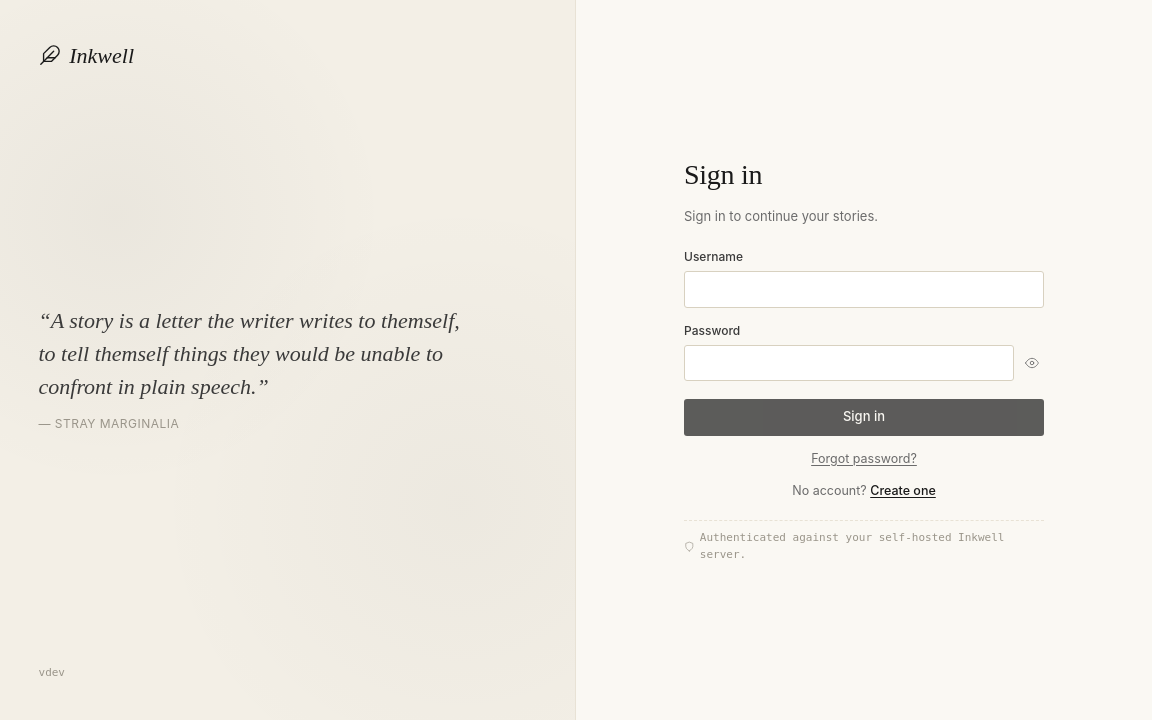
Test case: auth pages (F4) › submit button is disabled while the form is invalid
Check: the heading "Sign in" is shown, box x1=684 y1=159 x2=762 y2=190
Check: the button "Sign in" is disabled, box x1=684 y1=399 x2=1044 y2=436
Step 1. Type "ab" into the field labelled "Username" → x=864, y=289, box x1=684 y1=271 x2=1044 y2=308
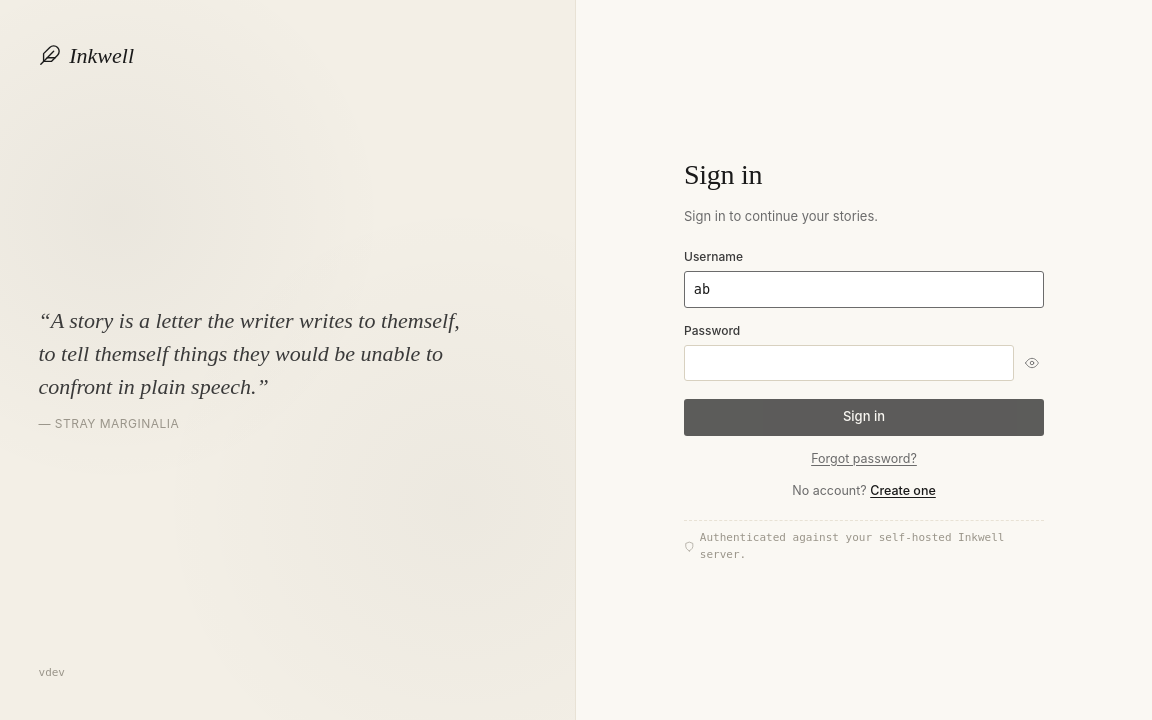
Check: the button "Sign in" is disabled, box x1=684 y1=399 x2=1044 y2=436
Step 2. Type "short" into the password field labelled "Password" → x=849, y=363, box x1=684 y1=345 x2=1014 y2=381
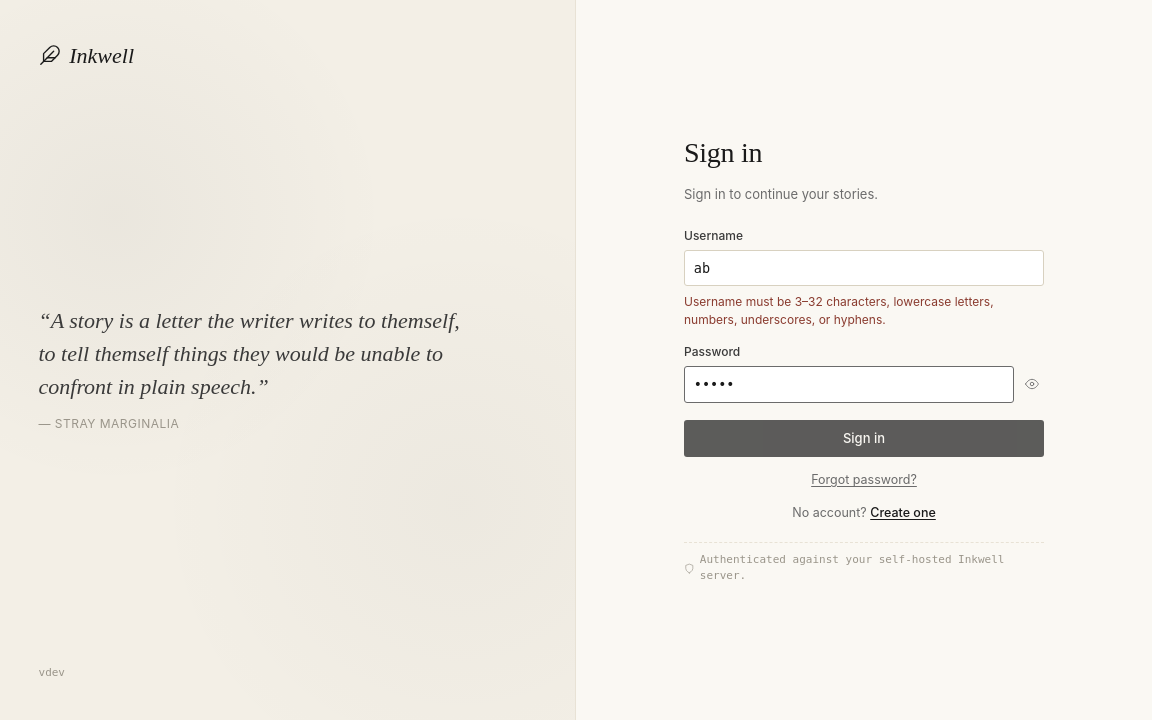
Check: the button "Sign in" is disabled, box x1=684 y1=420 x2=1044 y2=457
# Fix both — button enables.
Step 3. Clear the field labelled "Username" → x=864, y=268, box x1=684 y1=250 x2=1044 y2=286
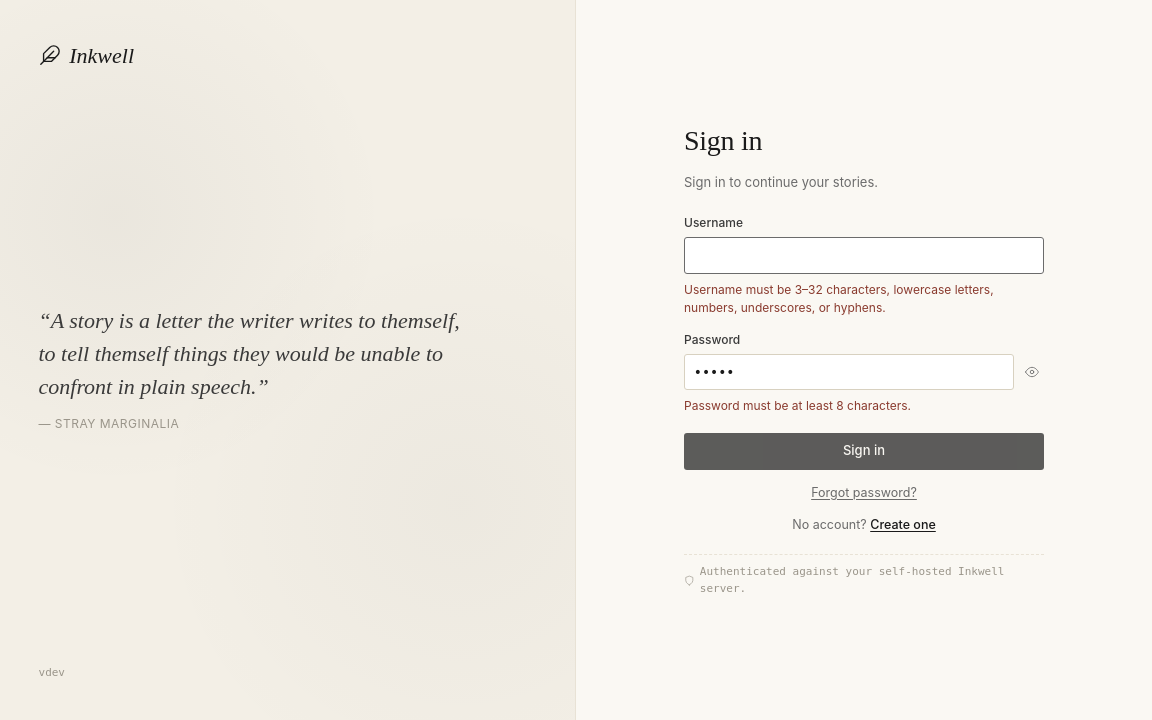
Step 4. Type "alice" into the field labelled "Username" → x=864, y=255, box x1=684 y1=237 x2=1044 y2=274
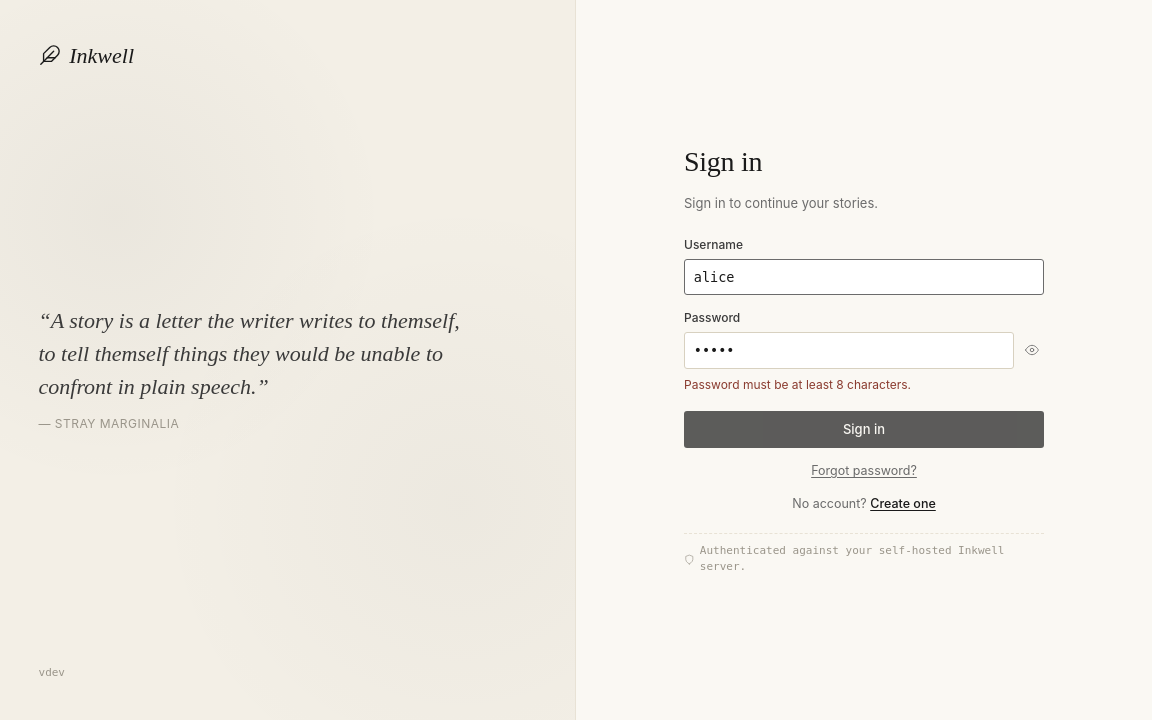
Step 5. Type "hunter2hunter2" into the password field labelled "Password Password must be at least 8 characters." → x=849, y=350, box x1=684 y1=332 x2=1014 y2=369
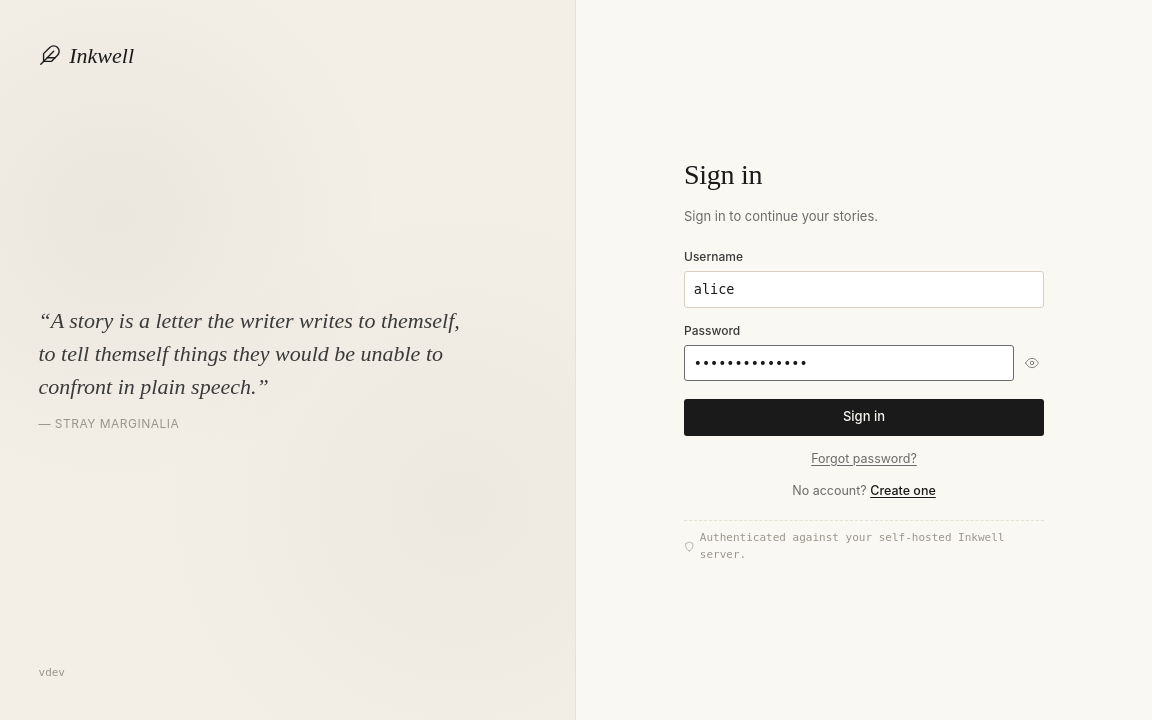
Check: the button "Sign in" is enabled, box x1=684 y1=399 x2=1044 y2=436
